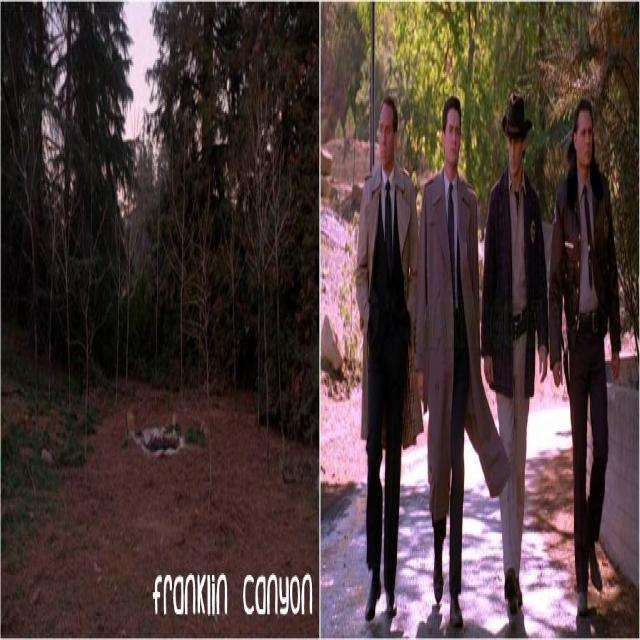nomask: (378, 106, 394, 164), (577, 111, 592, 166), (445, 110, 460, 164), (508, 130, 522, 176)
